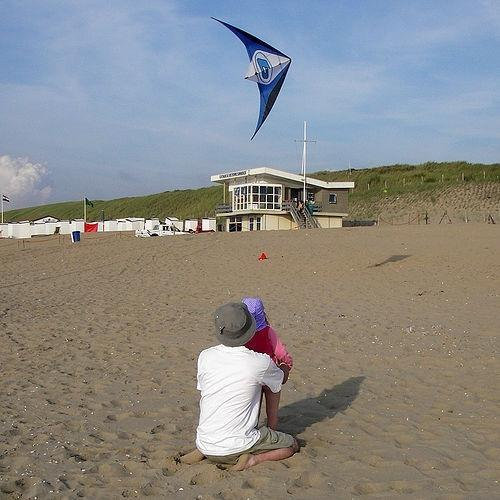truck: (149, 224, 190, 236)
